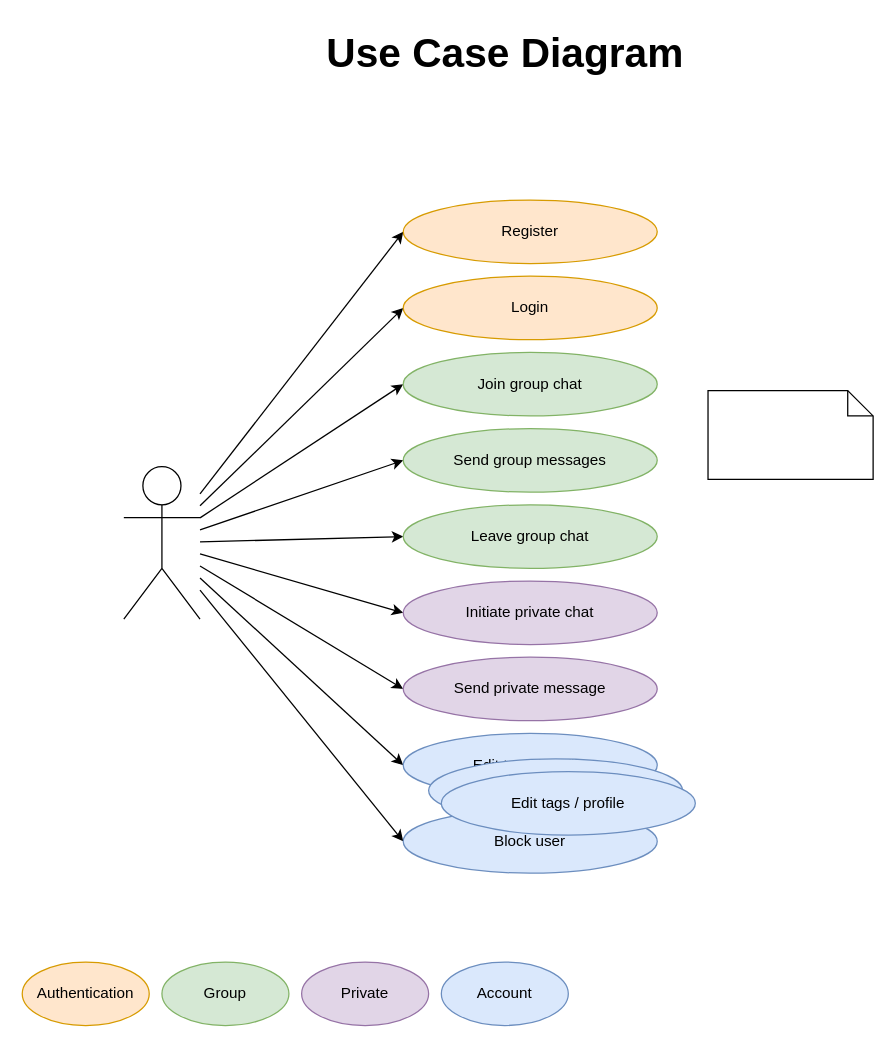
The diagram is 895 pixels wide and 1048 high, and some of its shapes have lost their labels. The centre of each missing label's shape, as x and y in pixels:
All use cases below "Login" requires an authenticated session: point 790,434
User: point 161,542
